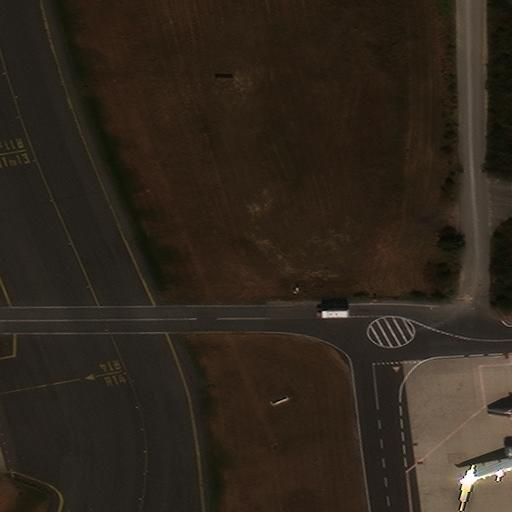Medium Civil Transport: (460, 419, 511, 511)
